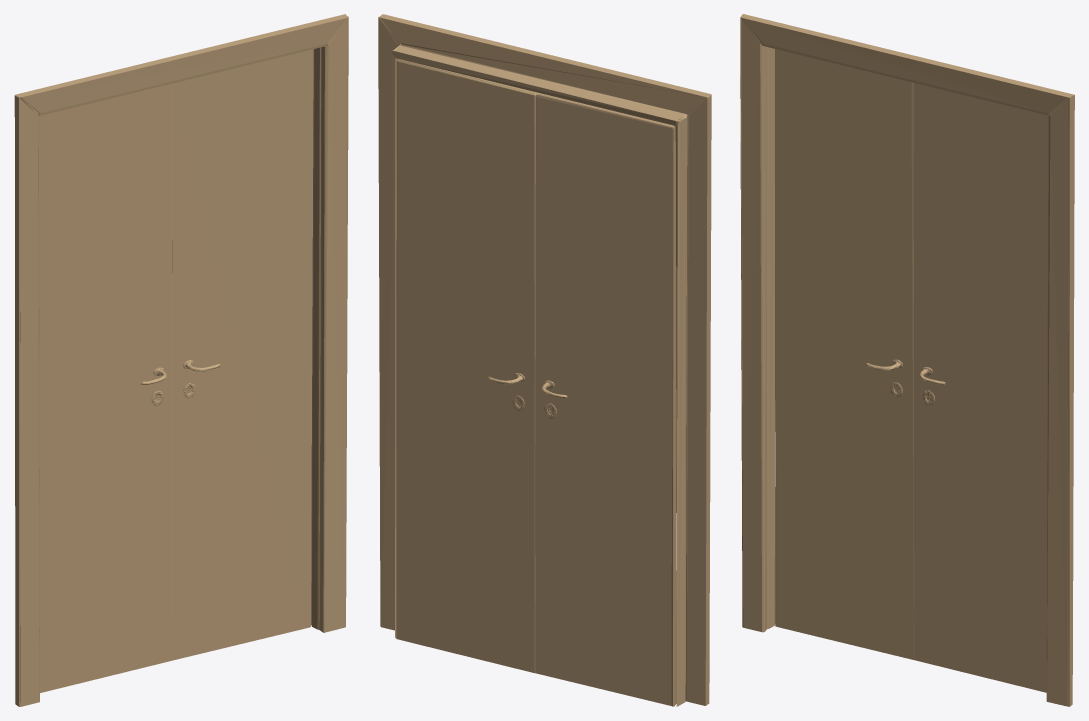
File: gen-door-double-1.glb
3 renders of one model, left to right at view 1: azimuth 30°, elevation 25°; view 2: azimuth 150°, elevation 25°; view 3: azimuth 330°, elevation 25°, orthographic.
Visible parts, largest first — view 1: gen-door-double-1_part1; view 2: gen-door-double-1_part1; view 3: gen-door-double-1_part1.
Part boxes in pixels (<box>): gen-door-double-1_part1: <box>14,14,348,706</box>; gen-door-double-1_part1: <box>378,14,711,706</box>; gen-door-double-1_part1: <box>740,14,1074,706</box>.
Size of the model in its own units: 1222 by 2150 by 155.
